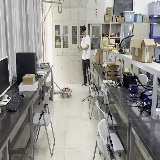fire: (62, 74, 67, 91)
